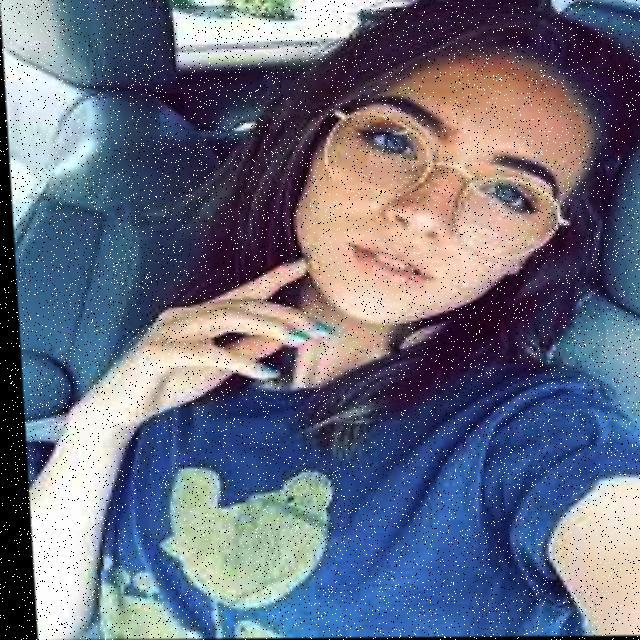noSeatbelt: (85, 312, 640, 640)
